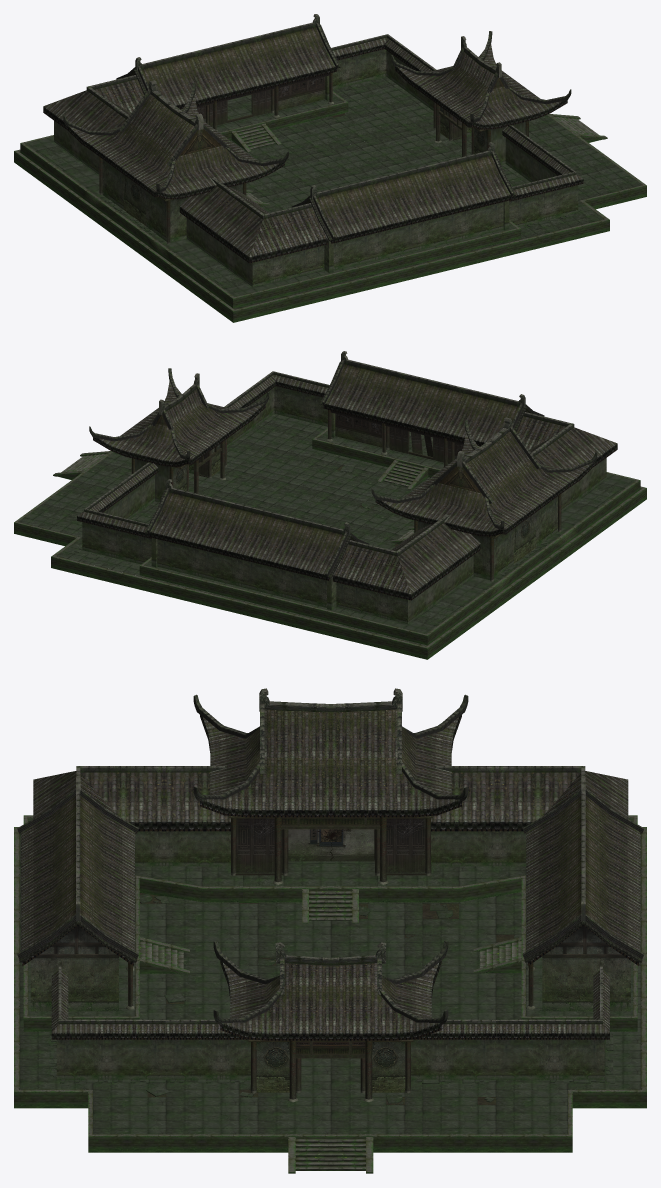
File: YZ_jianzhu.FBX
3 views of the same model, one above another, from view 1: azimuth 30°, elevation 25°; view 2: azimuth 150°, elevation 25°; view 3: azimuth 270°, elevation 25° (orthographic). The views are drawn at different scales.
Parts seen in each view (by area): view 1: YZ_jianzhu; view 2: YZ_jianzhu; view 3: YZ_jianzhu.
Boxes of the visible parts, x1,y1,x2,y2 form: YZ_jianzhu: (14, 14, 646, 322); YZ_jianzhu: (14, 351, 646, 659); YZ_jianzhu: (14, 688, 646, 1173).
Bounding box in the file's own units: 6806 × 1775 × 5354.
